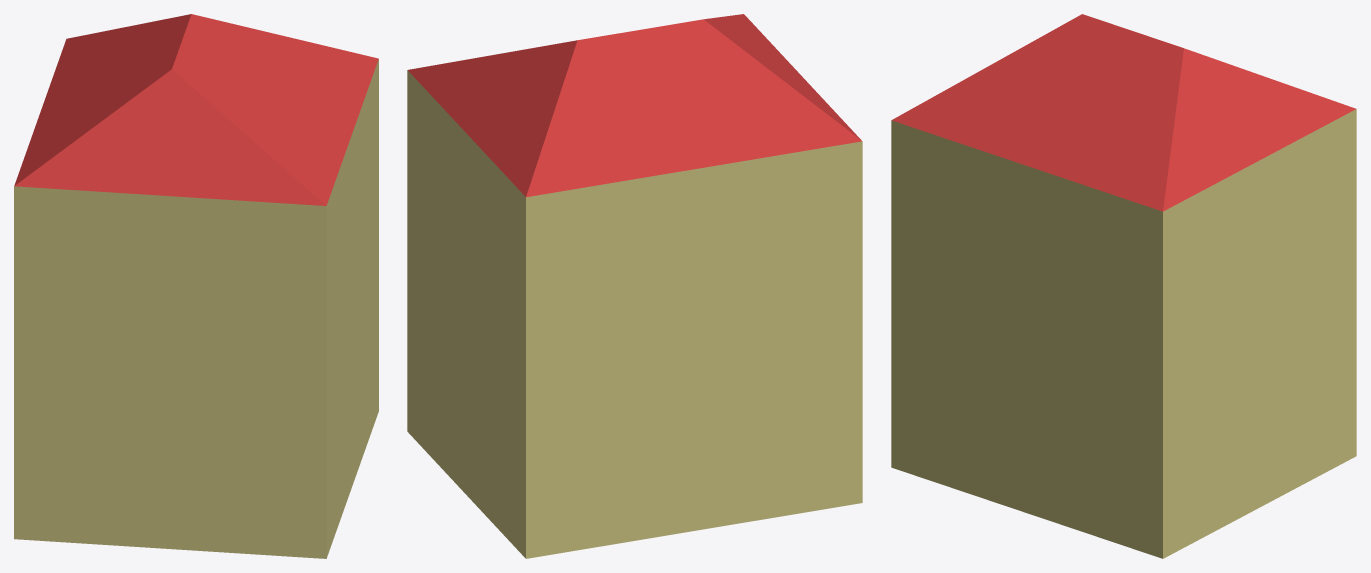
3 renders of one model, left to right at view 1: azimuth 30°, elevation 25°; view 2: azimuth 150°, elevation 25°; view 3: azimuth 270°, elevation 25°, orthographic. The views are drawn at different scales.
Visible parts, largest first — view 1: group_4, group_3; view 2: group_4, group_3; view 3: group_4, group_3.
Part boxes in pixels (bbox=[...]): group_4: bbox=[14, 59, 378, 558]; group_3: bbox=[14, 14, 378, 205]; group_4: bbox=[407, 70, 862, 558]; group_3: bbox=[408, 14, 861, 197]; group_4: bbox=[891, 109, 1356, 558]; group_3: bbox=[892, 14, 1355, 211].
Bounding box in the file's own units: 11.88 × 12.03 × 12.15.
